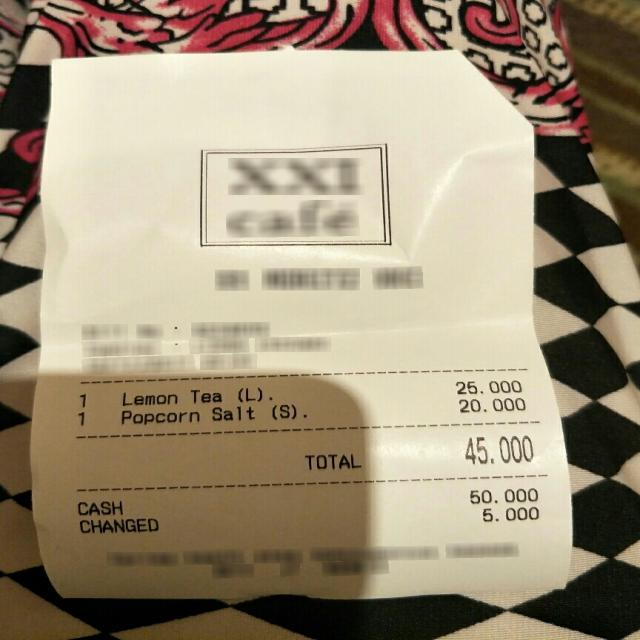kertas: (32, 51, 572, 599)
